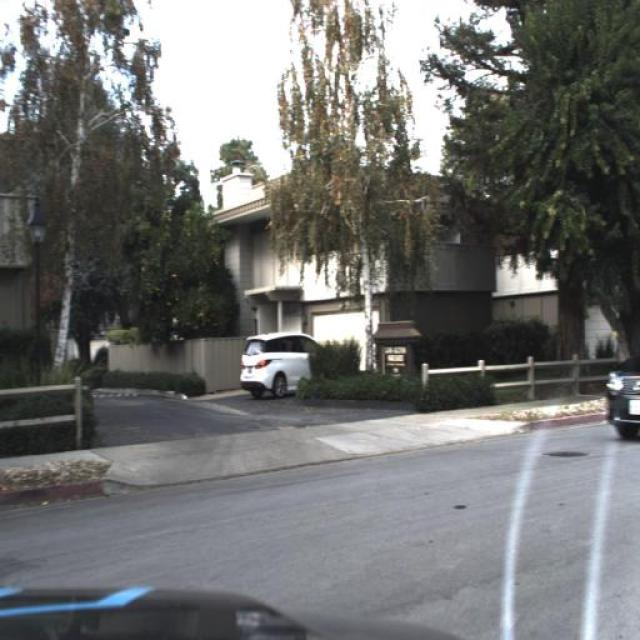car: (240, 334, 318, 397), (608, 358, 640, 442)
